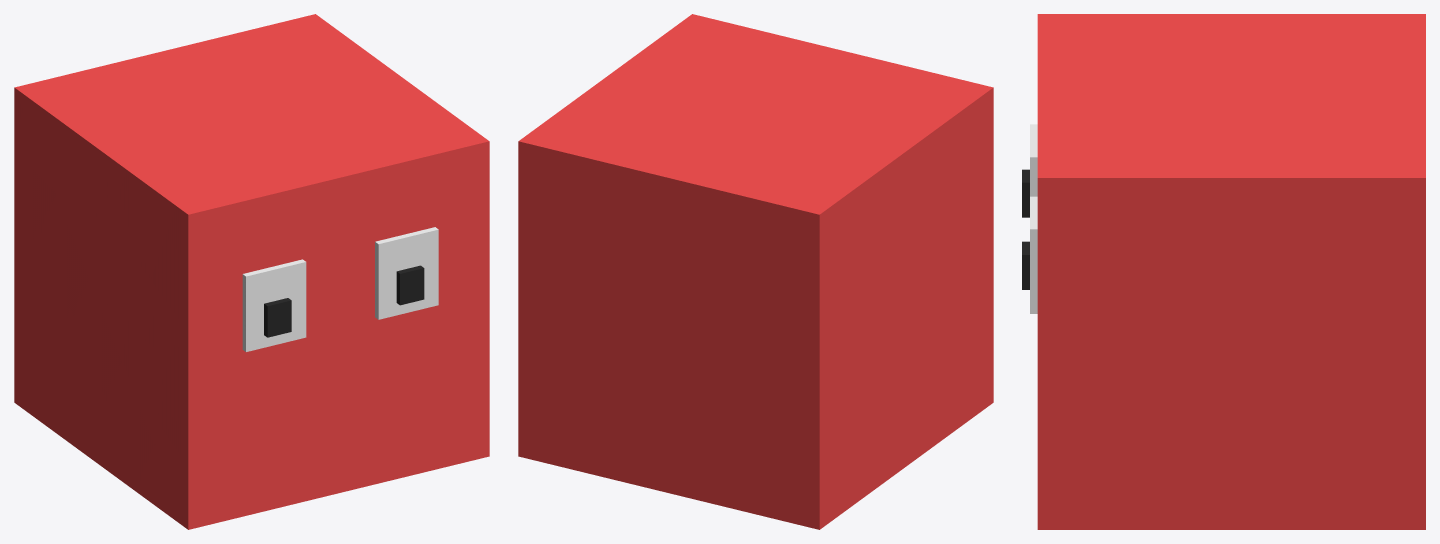
File: lingo-2020.glb
3 renders of one model, left to right at view 1: azimuth 30°, elevation 25°; view 2: azimuth 150°, elevation 25°; view 3: azimuth 270°, elevation 25°, orthographic. The views are drawn at different scales.
Parts seen in each view (by area): view 1: Nova; view 2: Nova; view 3: Nova.
Boxes of the visible parts, x1,y1,x2,y2 form: Nova: (14, 14, 489, 529); Nova: (518, 14, 993, 529); Nova: (1022, 14, 1425, 529).
Bounding box in the file's own units: 1 × 1 × 1.04.
